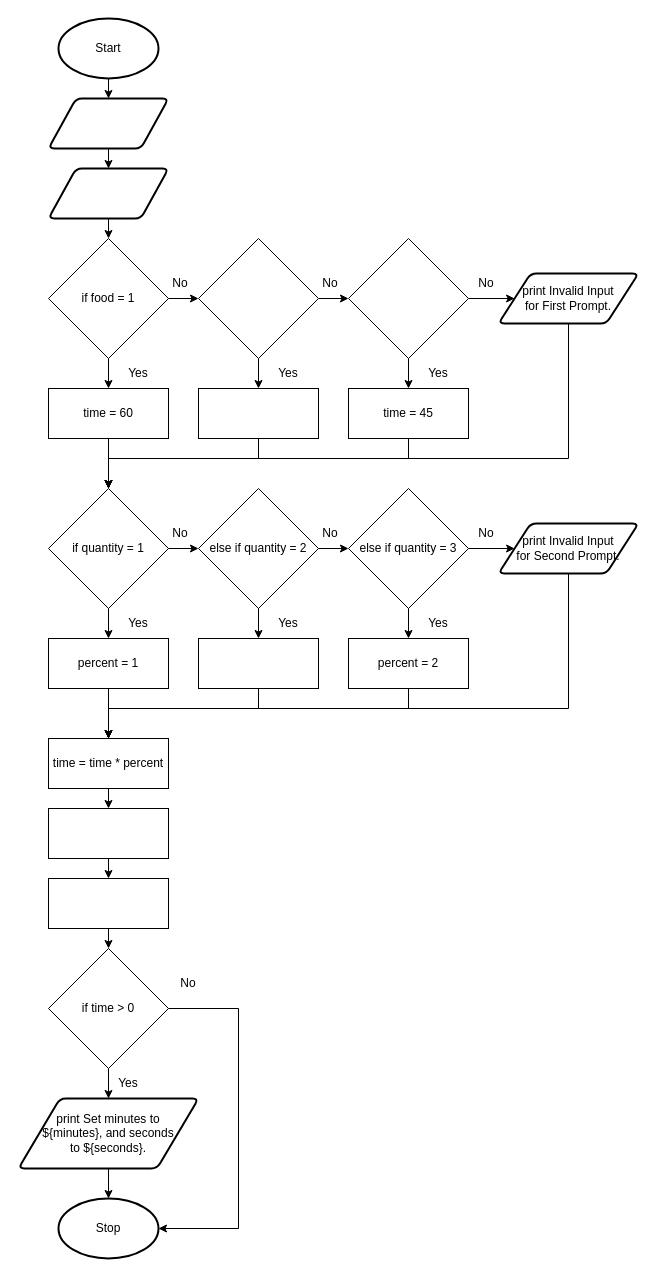
Some shapes in this 656 by 1276 pixel diagram are drawn without their labels. The shapes that lost their labels are listed below. From the top down, each one's centre as x and y in pixels, then its label:
At (108,123): "get food".
At (108,193): "get quantity".
At (258,298): "else if food = 2".
At (408,298): "else if food = 3".
At (258,413): "time = 105".
At (258,663): "percent = 1.5".
At (108,833): "seconds = time % 60".
At (108,903): "minutes = Math.floor(time / 60)".
